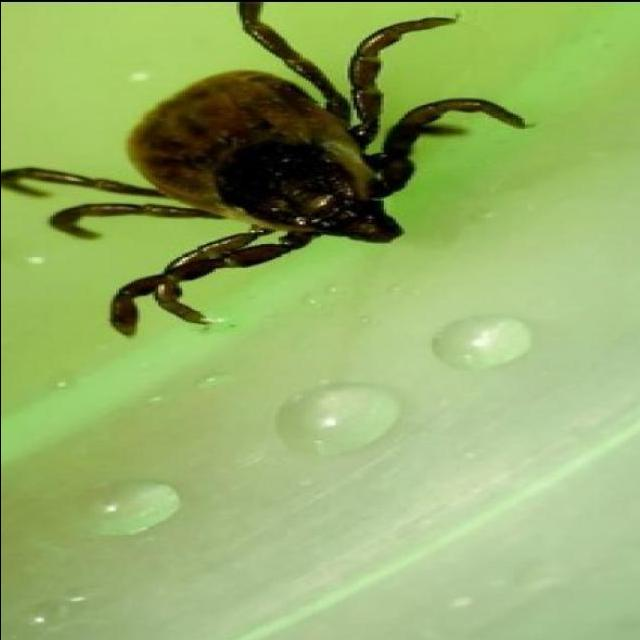Rhipicephalus Sanguineus-F: (0, 0, 530, 337)
